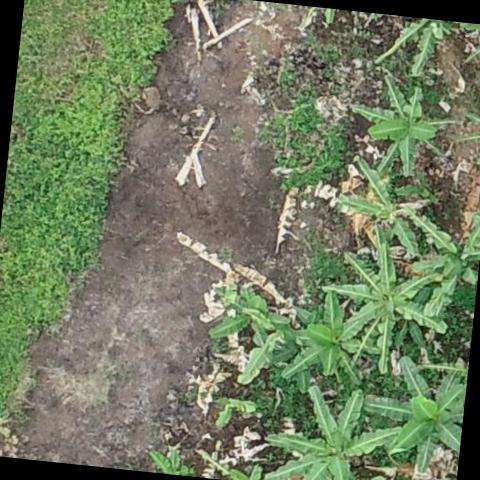Banana-plant: (328, 244, 446, 368), (261, 379, 400, 480), (362, 353, 468, 469), (348, 70, 444, 174), (343, 166, 434, 255), (287, 294, 376, 384), (416, 218, 480, 308)
